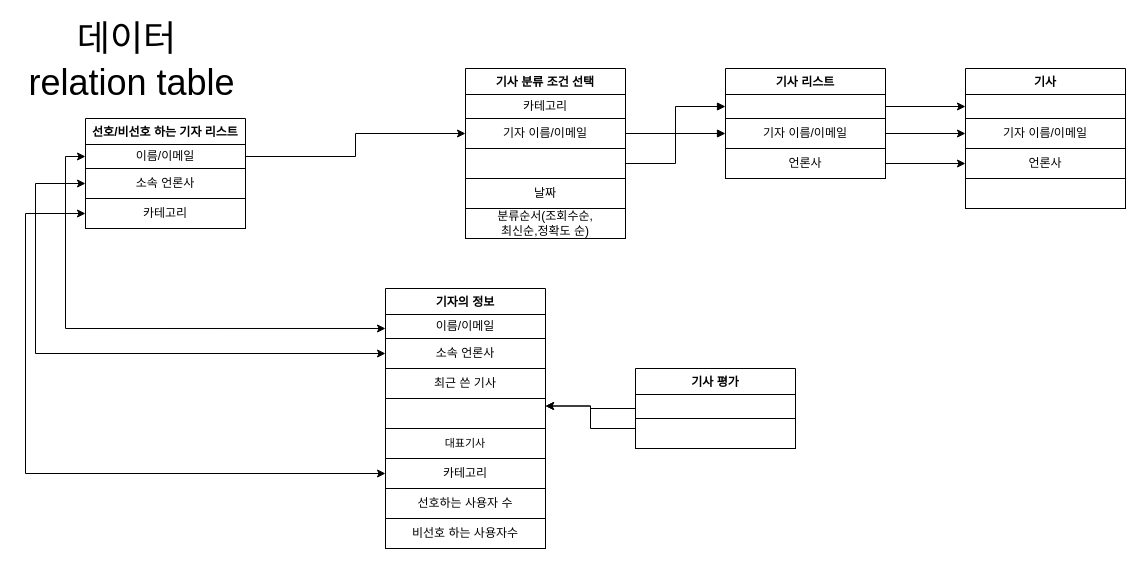
The diagram is 1143 pixels wide and 566 high, and some of its shapes have lost their labels. The centre of each missing label's shape, as x and y in pixels:
"검색어" belongs at pixel 545 163.
"기사 제목" belongs at pixel 805 106.
"기사제목" belongs at pixel 1045 106.
"본문" belongs at pixel 1045 193.
"점수" belongs at pixel 715 406.
"평점/기사평" belongs at pixel 465 413.
"한줄평" belongs at pixel 715 433.
